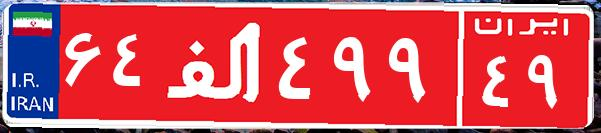4: (273, 28, 330, 110), (475, 38, 525, 113), (110, 28, 158, 105)
6: (57, 26, 110, 107)
9: (385, 28, 445, 110), (330, 28, 385, 110), (525, 38, 570, 115)
الف: (158, 15, 273, 115)
